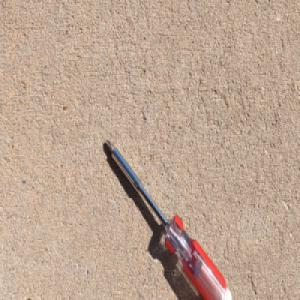Screwdriver: (105, 137, 235, 300)
